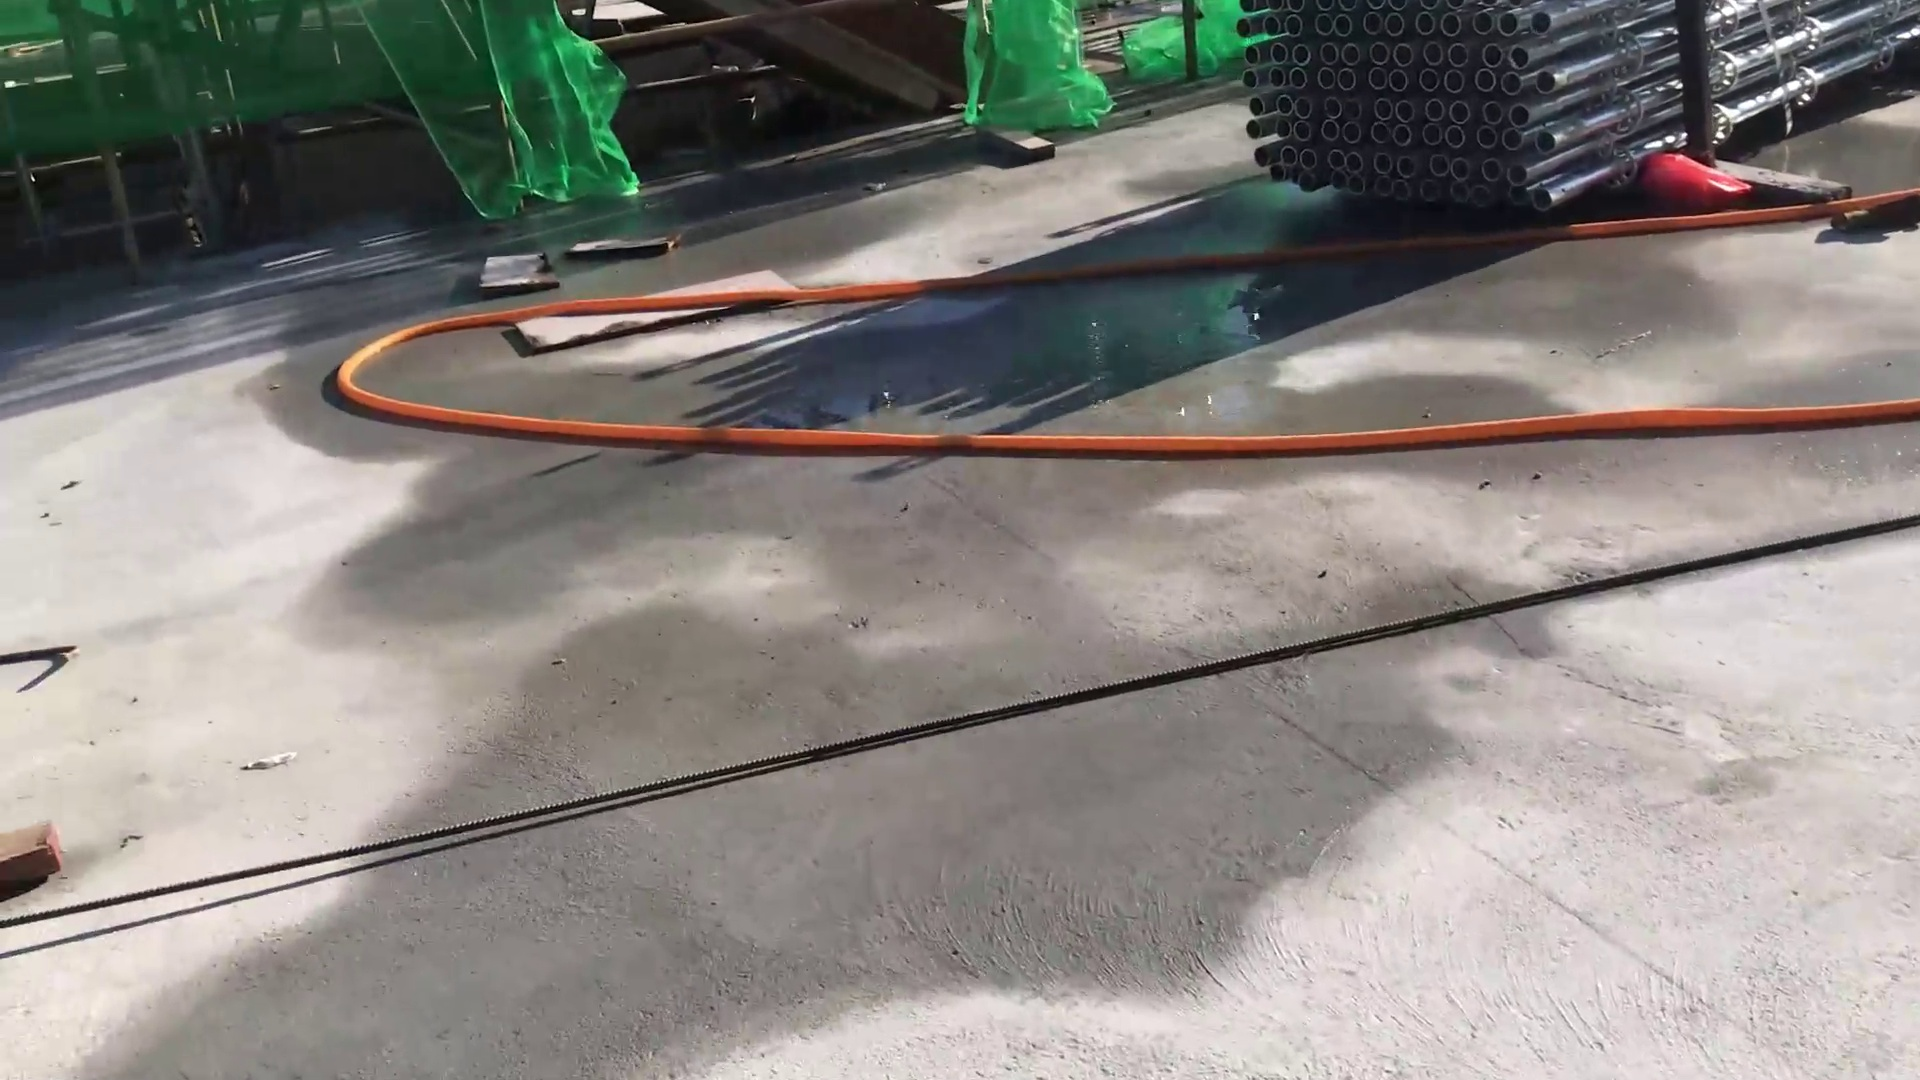scaffold: (1221, 1, 1904, 247)
